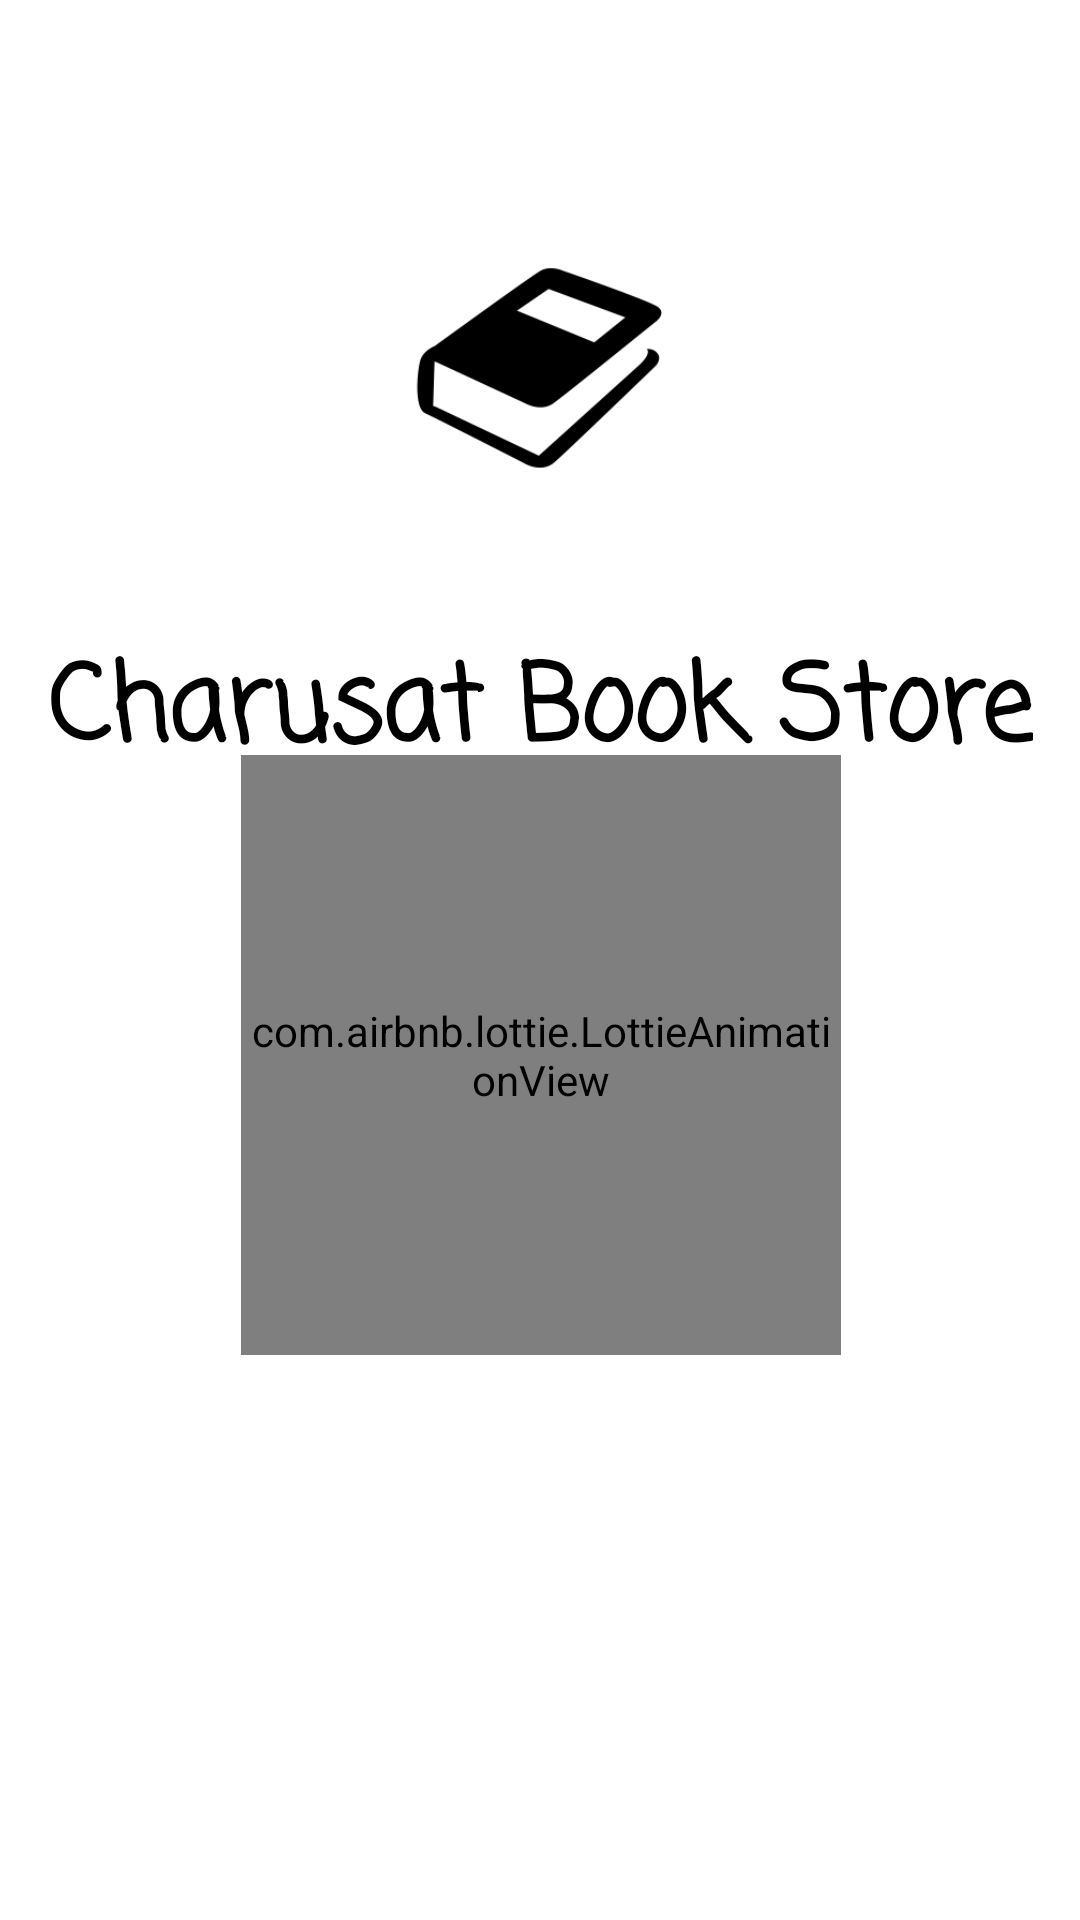

Where icons sit on this 1080 × 1920 app screen, as (x1, y1, x2, y2):
blackbook: (416, 268, 662, 468)
